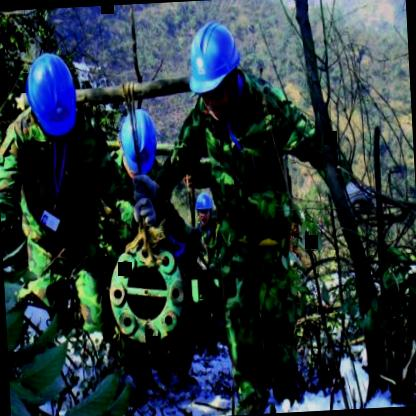helmet: (183, 16, 244, 122), (20, 48, 78, 148), (120, 103, 163, 187), (192, 188, 219, 226)
